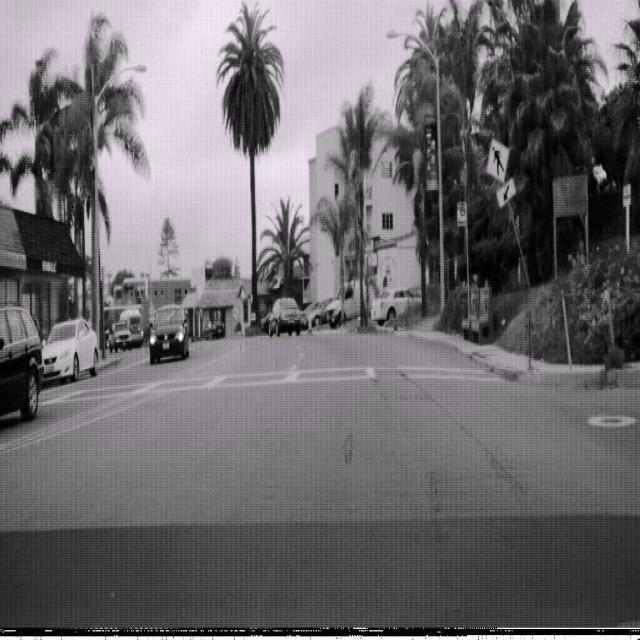pedestrianCrossing: (485, 135, 509, 184)
